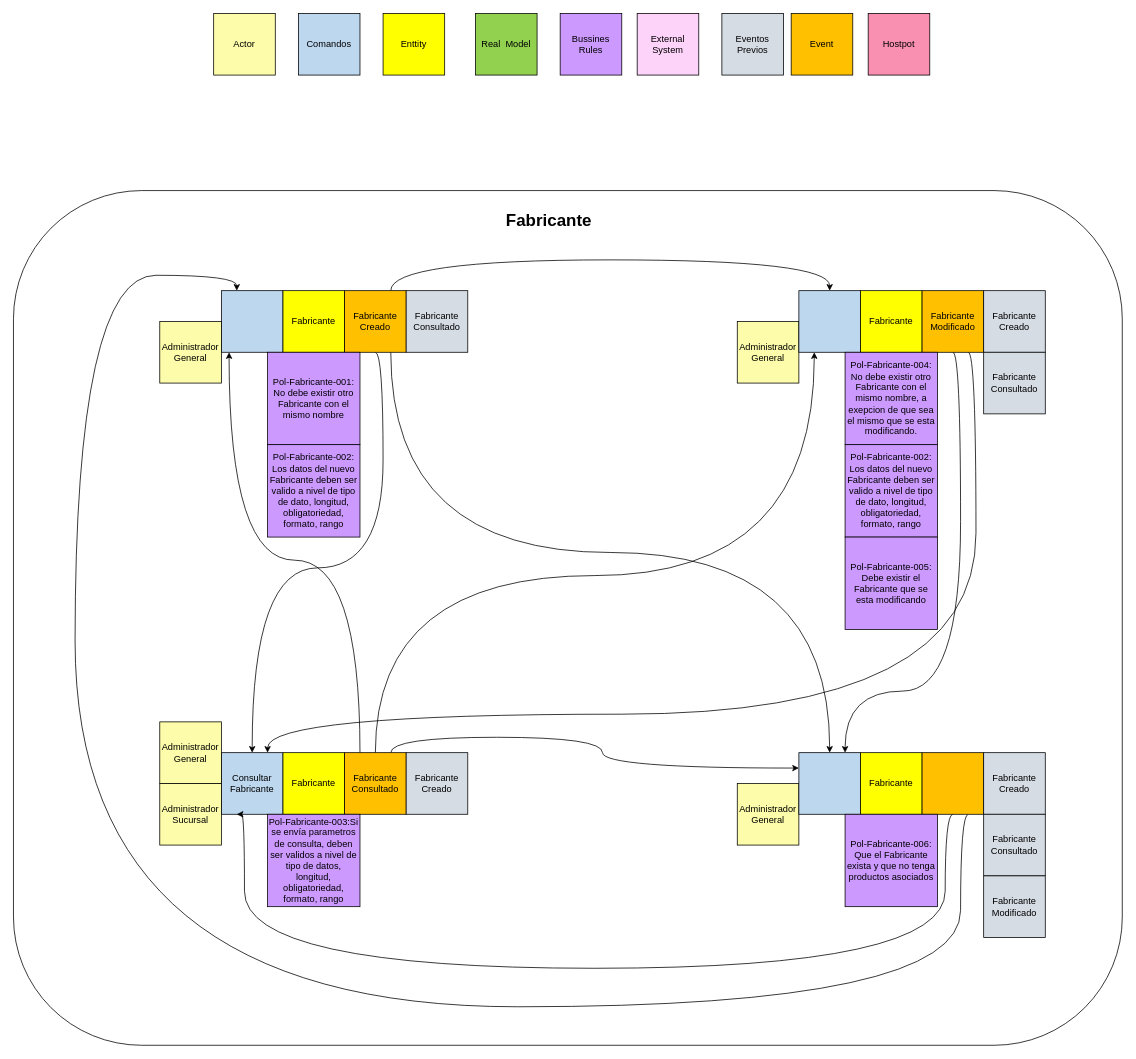
This 1136x1059 diagram has some shape labels left out. Each missing label, with the centre of its shape:
"Crear Fabricante" goes at point 252,321.
"Eliminar Fabricantes" goes at point 829,783.
"Fabricante Eliminado" goes at point 952,783.
"Modificar Fabricante" goes at point 829,321.
